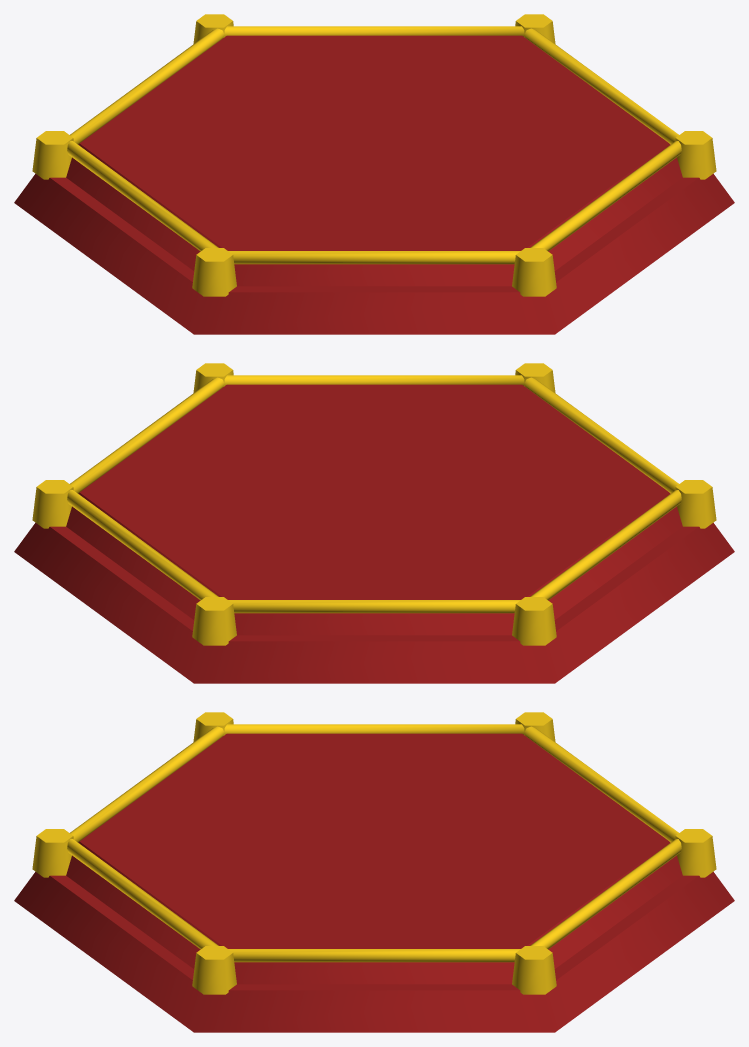
The model's file is runic_gold.glb.
3 renders of one model, top to bottom at view 1: azimuth 30°, elevation 25°; view 2: azimuth 150°, elevation 25°; view 3: azimuth 270°, elevation 25°, orthographic.
Parts seen in each view (by area): view 1: plinth_top, plinth_base, plinth_trim_ring, corner_stud_1, corner_stud_2, corner_stud_0, corner_stud_3, corner_stud_4, corner_stud_5; view 2: plinth_top, plinth_base, plinth_trim_ring, corner_stud_3, corner_stud_4, corner_stud_2, corner_stud_5, corner_stud_0, corner_stud_1; view 3: plinth_top, plinth_base, plinth_trim_ring, corner_stud_0, corner_stud_5, corner_stud_1, corner_stud_4, corner_stud_2, corner_stud_3.
Part boxes in pixels (box(x1,y1,x2,y2)): plinth_top: box(66, 35, 682, 286); plinth_base: box(14, 173, 734, 334); plinth_trim_ring: box(67, 26, 681, 264); corner_stud_1: box(512, 248, 556, 296); corner_stud_2: box(192, 248, 236, 296); corner_stud_0: box(675, 131, 716, 179); corner_stud_3: box(32, 131, 73, 179); corner_stud_4: box(193, 14, 233, 43); corner_stud_5: box(515, 14, 555, 43); plinth_top: box(66, 384, 682, 635); plinth_base: box(14, 522, 734, 683); plinth_trim_ring: box(67, 375, 681, 613); corner_stud_3: box(512, 597, 556, 645); corner_stud_4: box(192, 597, 236, 645); corner_stud_2: box(675, 480, 716, 528); corner_stud_5: box(32, 480, 73, 528); corner_stud_0: box(193, 363, 233, 392); corner_stud_1: box(515, 363, 555, 392); plinth_top: box(66, 733, 682, 984); plinth_base: box(14, 871, 734, 1032); plinth_trim_ring: box(67, 724, 681, 962); corner_stud_0: box(192, 946, 236, 994); corner_stud_5: box(512, 946, 556, 994); corner_stud_1: box(32, 829, 73, 877); corner_stud_4: box(675, 829, 716, 877); corner_stud_2: box(193, 712, 233, 741); corner_stud_3: box(515, 712, 555, 741).
Bounding box in the file's own units: 1.52 × 0.175 × 1.76.
